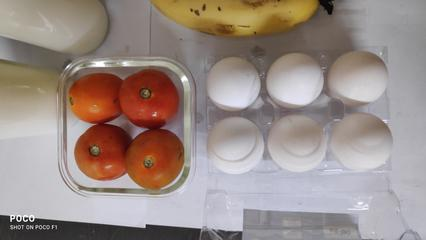banana: (139, 0, 334, 39)
eggs: (207, 62, 408, 175)
tomato: (65, 64, 178, 191)
